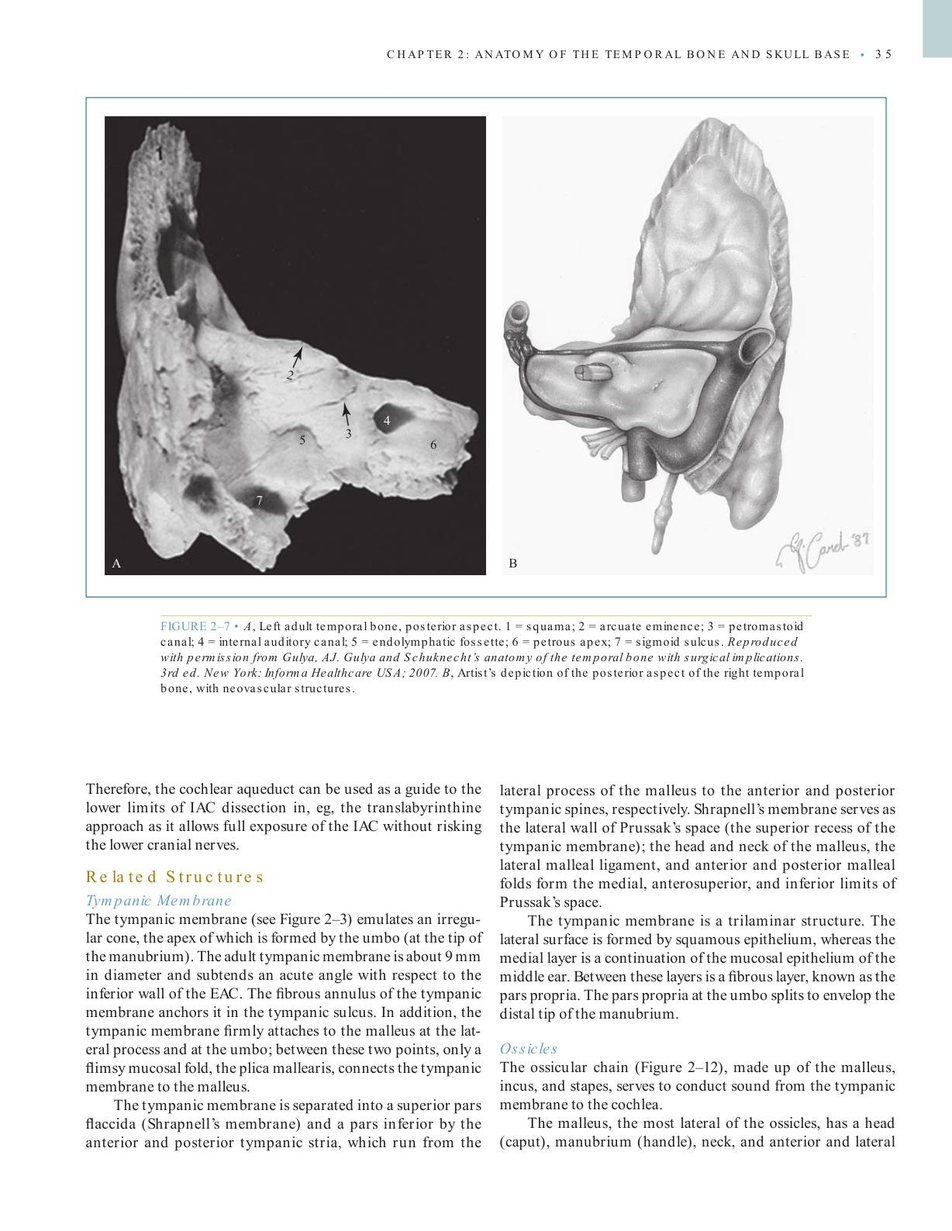caption: (158, 618, 809, 694), (110, 558, 122, 569), (508, 557, 519, 569)
header: (385, 47, 851, 60)
image: (497, 114, 876, 574), (106, 118, 487, 575)
section-heading: (84, 868, 264, 883)
sub-section-heading: (85, 893, 232, 910), (499, 1041, 558, 1055)
text: (498, 782, 899, 1024), (84, 911, 483, 1153), (497, 1059, 898, 1152), (82, 780, 484, 854)
